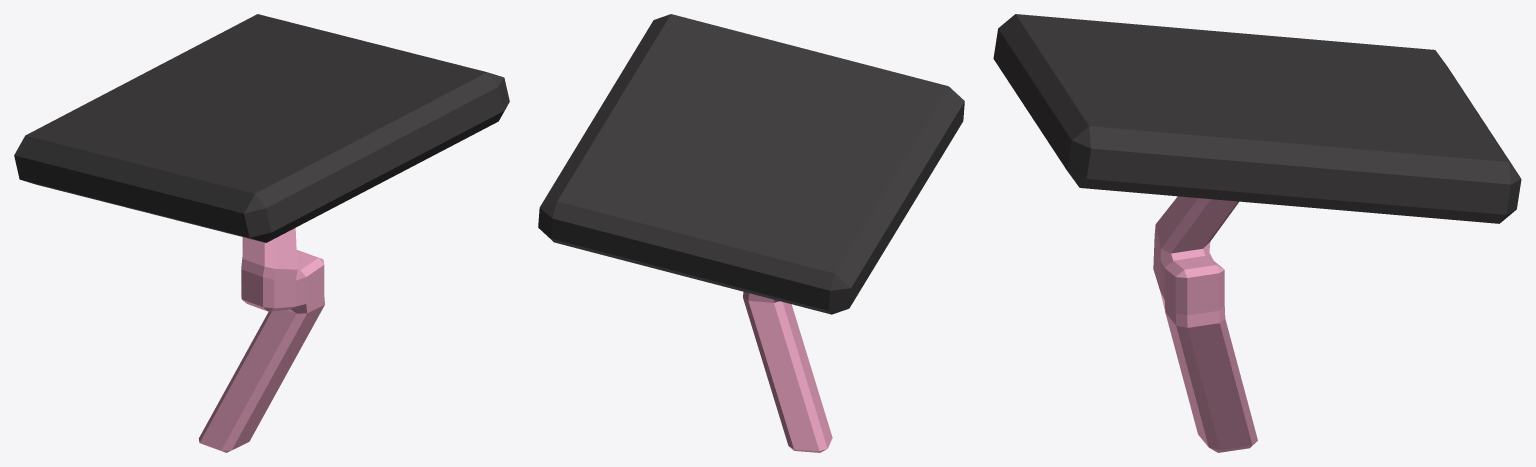
Rendered from Tree 3.fbx.
The picture shows the model from 3 angles, left to right: view 1: azimuth 30°, elevation 25°; view 2: azimuth 150°, elevation 25°; view 3: azimuth 270°, elevation 25°; orthographic projection. The views are drawn at different scales.
Parts seen in each view (by area): view 1: Tree 3; view 2: Tree 3; view 3: Tree 3.
Part boxes in pixels (bbox=[...]): Tree 3: bbox=[14, 14, 509, 452]; Tree 3: bbox=[538, 14, 964, 452]; Tree 3: bbox=[993, 14, 1521, 452].
Size of the model in its own units: 7.73 by 7.64 by 8.36.
